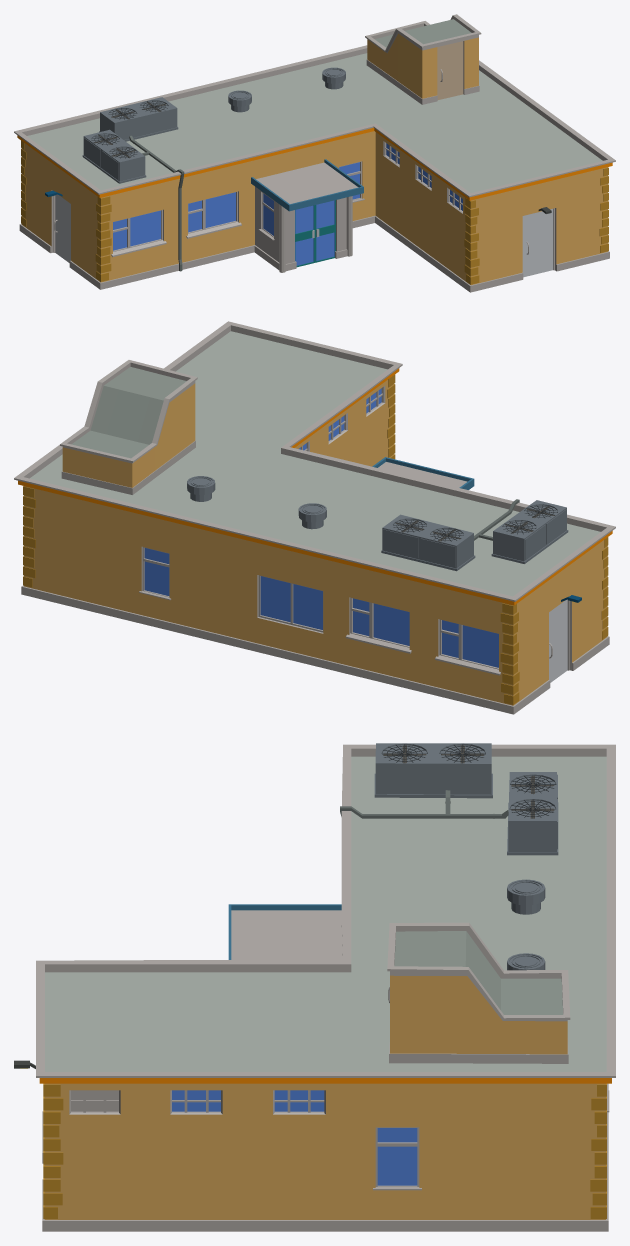
File: Police.gltf
3 views of the same model, one above another, from view 1: azimuth 30°, elevation 25°; view 2: azimuth 150°, elevation 25°; view 3: azimuth 270°, elevation 25° (orthographic). The views are drawn at different scales.
Parts seen in each view (by area): view 1: Police; view 2: Police; view 3: Police.
Part boxes in pixels (box(x1,y1,x2,y2)): Police: box(14, 14, 615, 292); Police: box(14, 321, 615, 714); Police: box(14, 743, 615, 1231).
Bounding box in the file's own units: 15.76 × 5.31 × 11.8.
